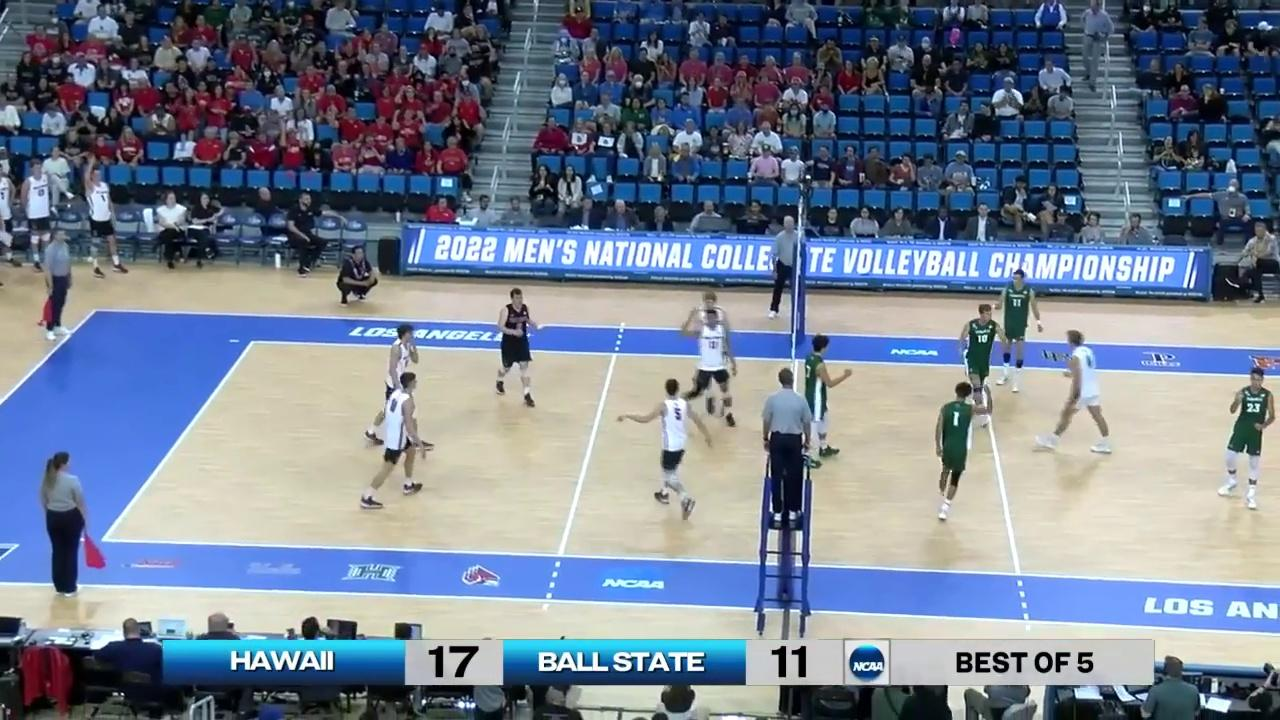player: (1043, 331, 1119, 454), (360, 373, 425, 508), (645, 379, 707, 520), (366, 322, 432, 453), (1221, 367, 1273, 509), (677, 309, 734, 424), (936, 382, 983, 521), (493, 289, 537, 407), (807, 335, 844, 468), (961, 305, 1001, 424), (997, 270, 1033, 391), (694, 293, 729, 415)
refree: (34, 453, 92, 596), (759, 366, 814, 513), (37, 229, 76, 341), (768, 216, 804, 321)
